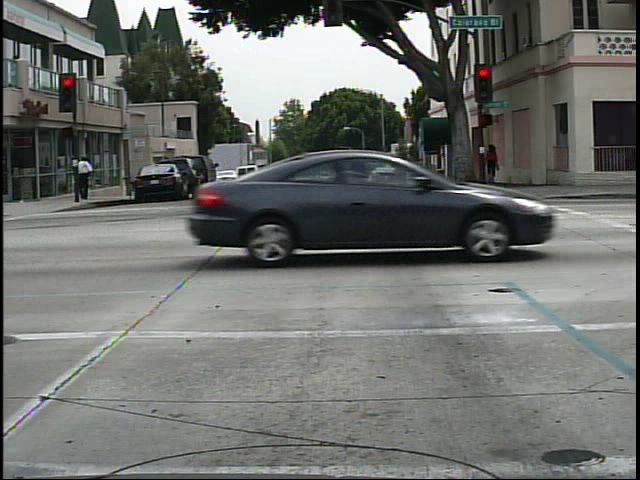person: (486, 139, 507, 191), (78, 150, 96, 201)
